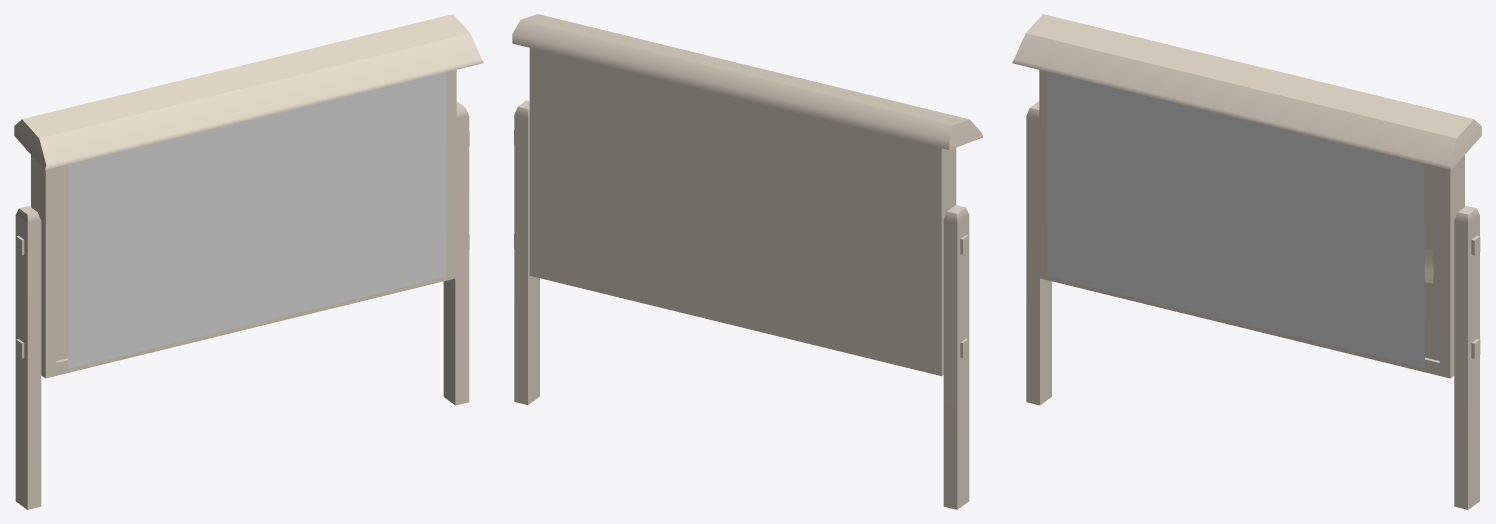
Rendered from board.glb.
3 renders of one model, left to right at view 1: azimuth 30°, elevation 25°; view 2: azimuth 150°, elevation 25°; view 3: azimuth 330°, elevation 25°, orthographic.
Visible parts, largest first — view 1: Board, Object_3; view 2: Object_3; view 3: Board, Object_3.
Boxes of the visible parts, bbox=[...] form: Board: bbox=[68, 72, 446, 368]; Object_3: bbox=[14, 14, 483, 509]; Object_3: bbox=[512, 14, 982, 509]; Board: bbox=[1046, 71, 1424, 368]; Object_3: bbox=[1012, 14, 1481, 509].
Size of the model in its own units: 3.57 by 2.9 by 0.4464.
